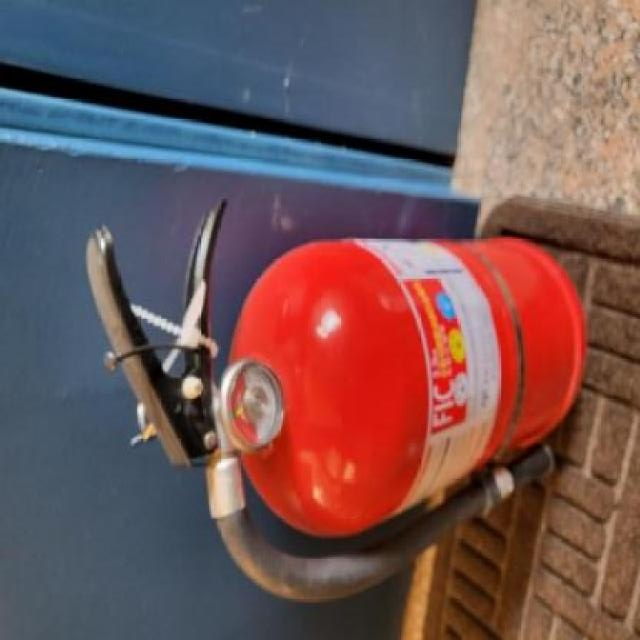fire extinguisher: (86, 197, 589, 605)
